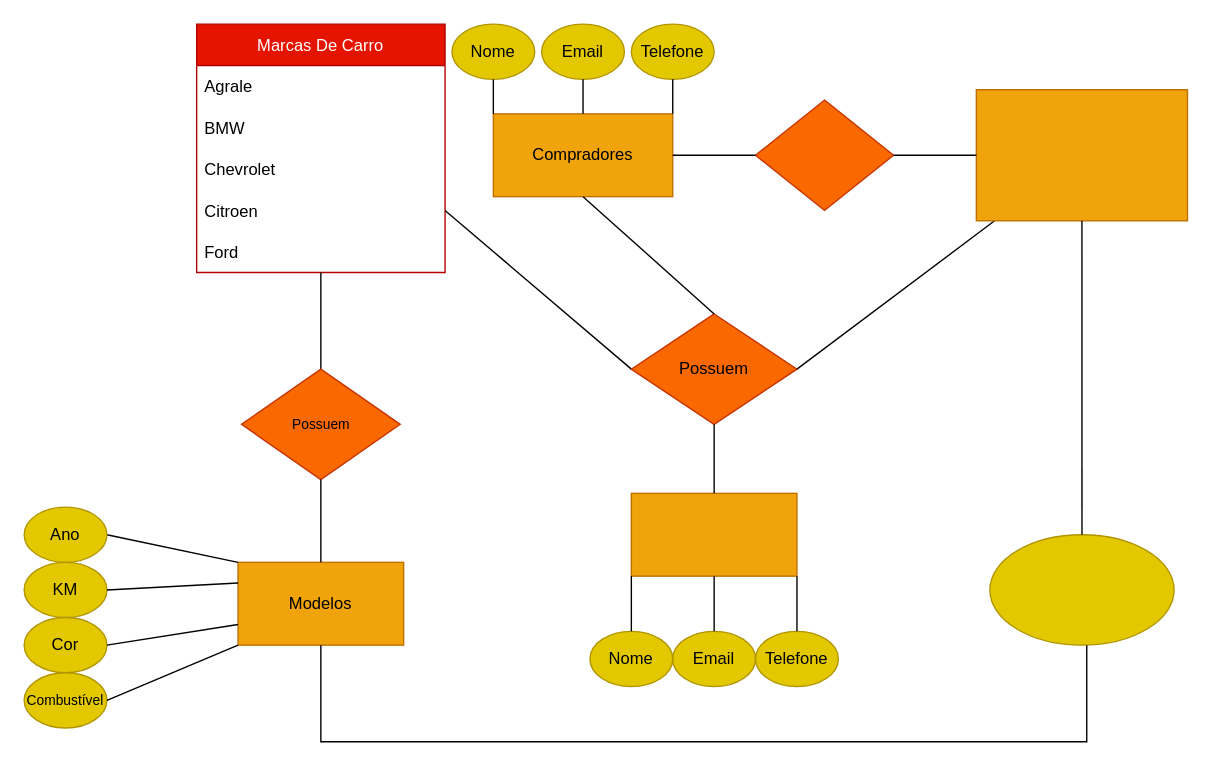
The diagram is 1212 pixels wide and 767 high, and some of its shapes have lost their labels. Each missing label, with the centre of its shape:
"Carros" goes at (x=1081, y=154).
"Preço" goes at (x=1081, y=589).
"Procuram" goes at (x=824, y=154).
"Vendedores" goes at (x=713, y=534).
